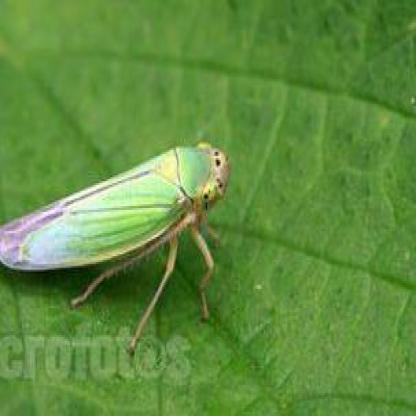Green-Leafhopper: (0, 138, 230, 357)
